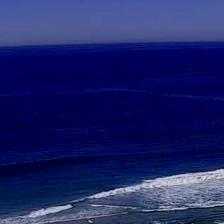surfer: (160, 157, 165, 161), (72, 182, 78, 185), (112, 174, 119, 176), (153, 168, 156, 171), (132, 160, 136, 162)
